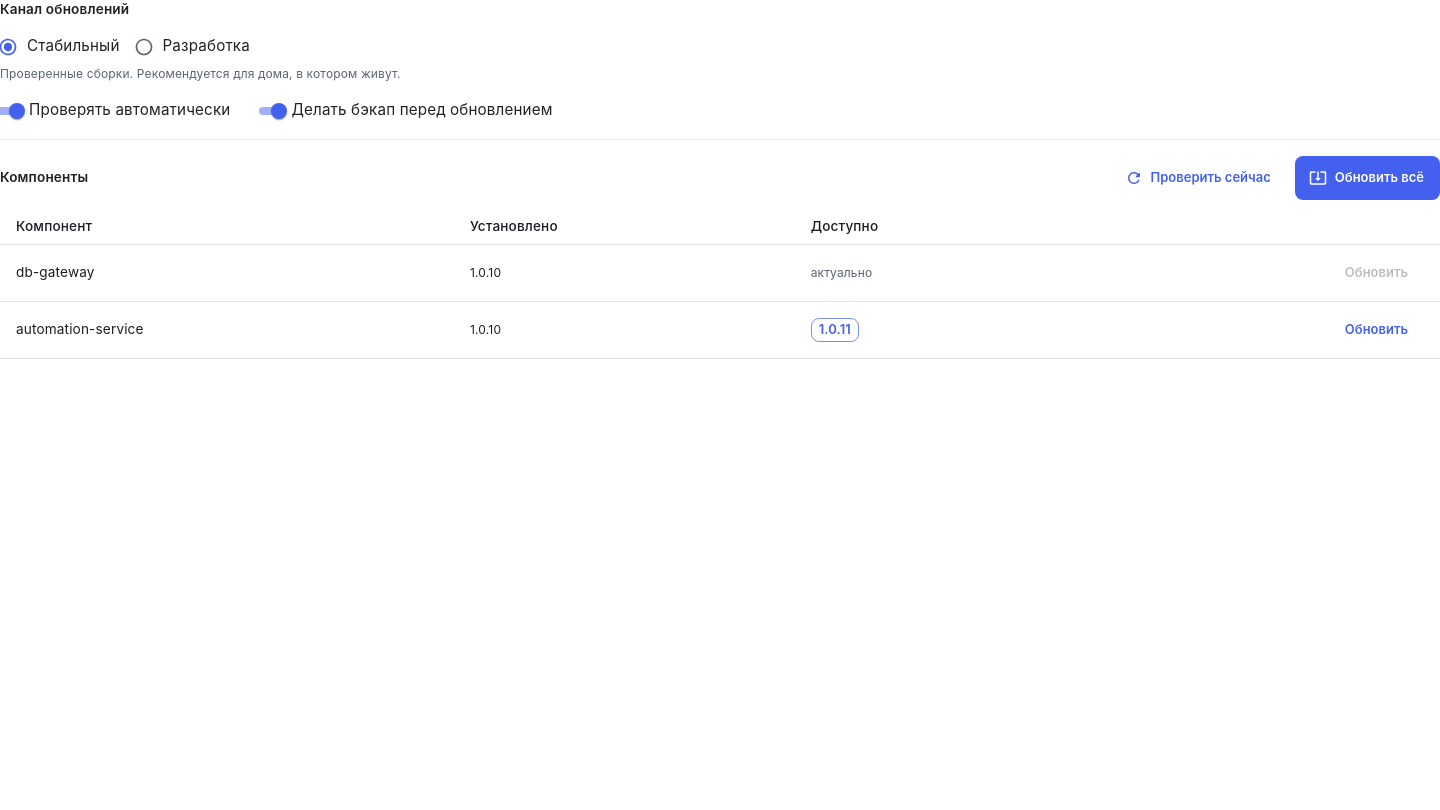
Test: UpdatesEditor › shows the pulled-in components and the reason before anything is applied
The width and height of the screenshot is (1440, 810).
expect the text "automation-service" is shown: met, box [0, 301, 454, 358]
Step 1. Click the button "Обновить" in the row of "automation-service" → (1376, 330), box [1329, 308, 1424, 352]
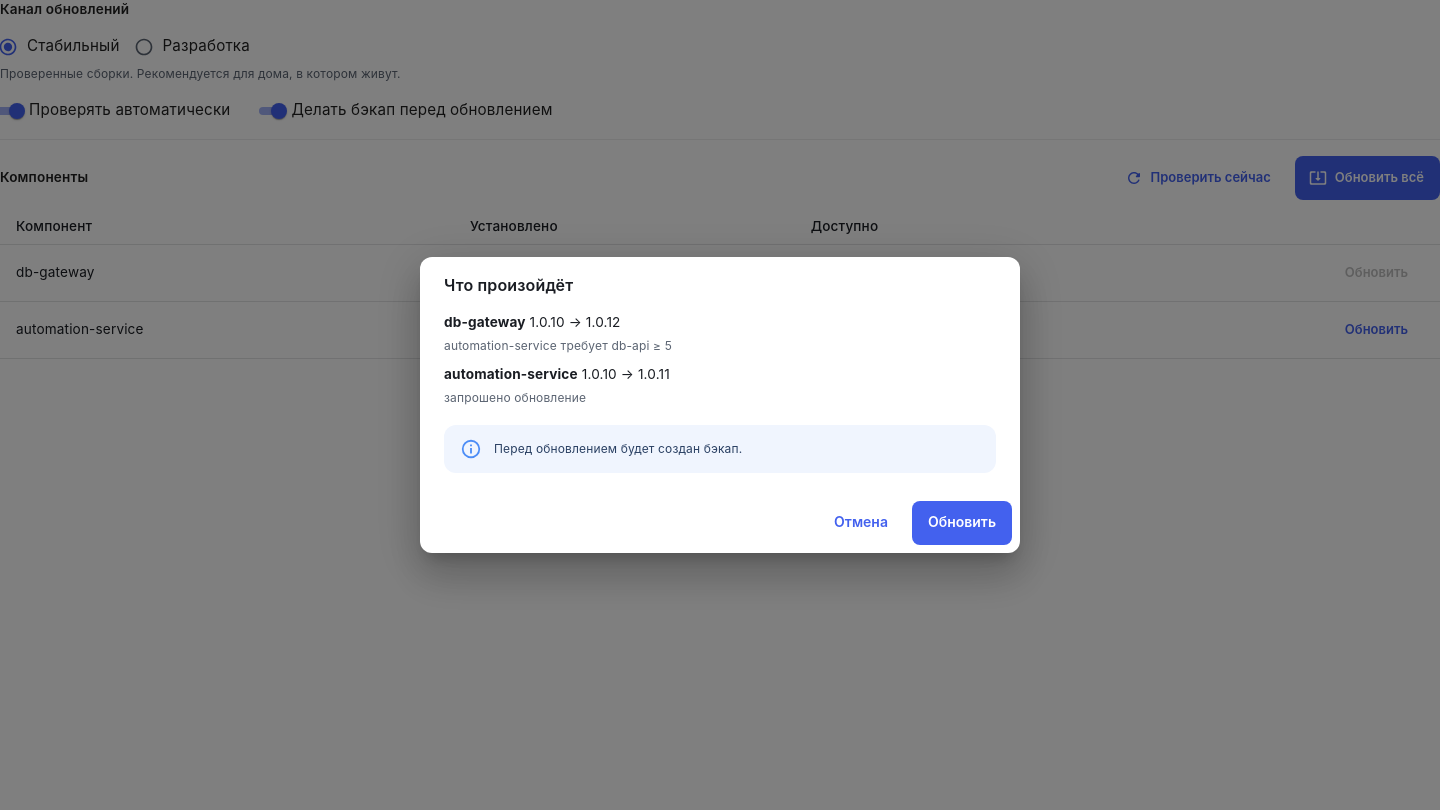
expect the text "automation-service требует db-api ≥ 5" is shown: met, box [444, 338, 672, 353]
